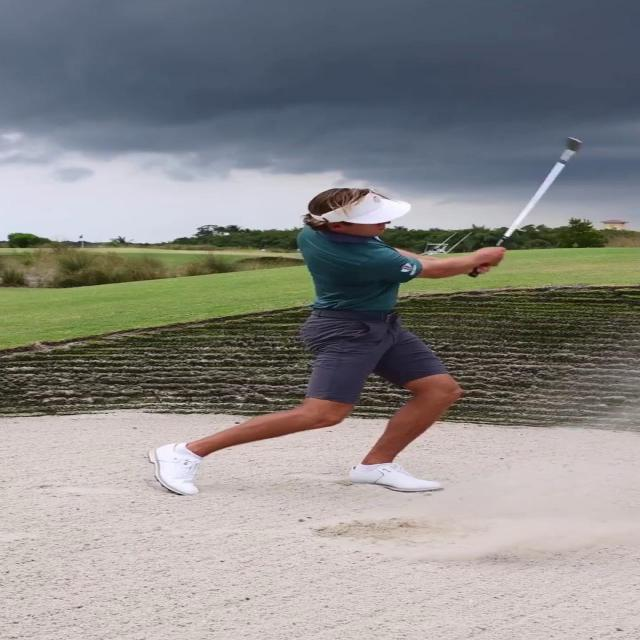ClubHead: (566, 137, 582, 151)
